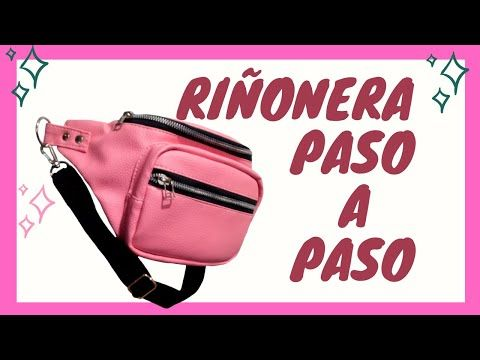cuero: (43, 112, 263, 267)
